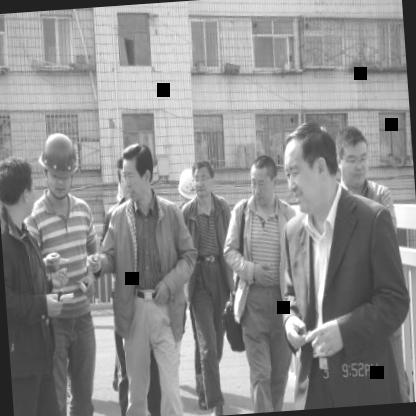head: (281, 120, 341, 217), (334, 120, 374, 192), (0, 155, 41, 224), (118, 136, 156, 210), (247, 150, 282, 209), (190, 157, 218, 201)
helmet: (37, 127, 83, 204), (176, 167, 200, 214)
